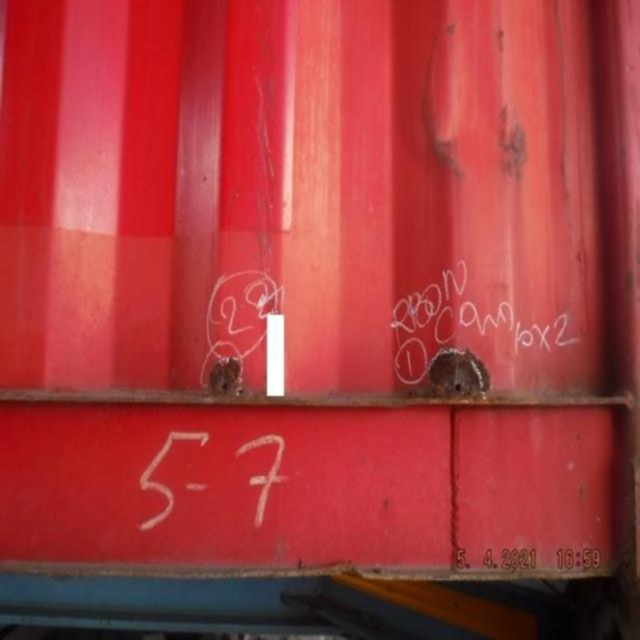Hole: (452, 380, 466, 400), (221, 381, 230, 397)
Rusty: (428, 348, 493, 401), (208, 357, 246, 398)
